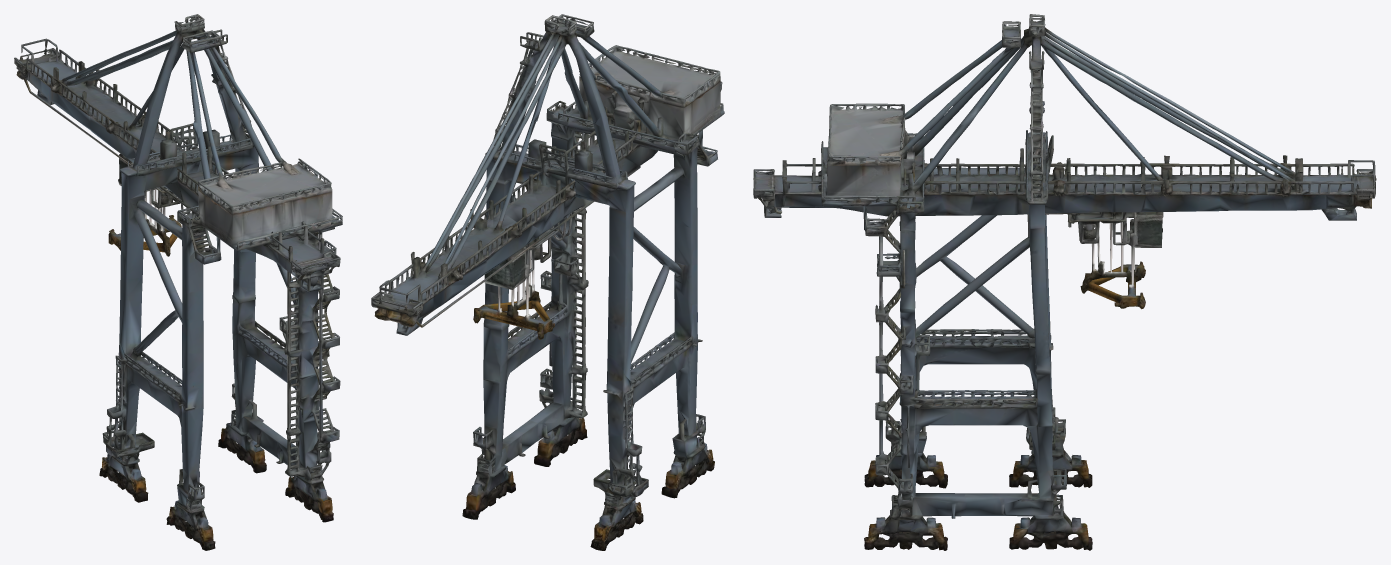
The model's file is sts_crane.glb.
The picture shows the model from 3 angles, left to right: view 1: azimuth 30°, elevation 25°; view 2: azimuth 150°, elevation 25°; view 3: azimuth 270°, elevation 25°; orthographic projection. The views are drawn at different scales.
Visible parts, largest first — view 1: tripo_node_b91b8bd2-6f9e-47f5-b3c7-c43930d2551e; view 2: tripo_node_b91b8bd2-6f9e-47f5-b3c7-c43930d2551e; view 3: tripo_node_b91b8bd2-6f9e-47f5-b3c7-c43930d2551e.
Part boxes in pixels (box(x1,y1,x2,y2)): tripo_node_b91b8bd2-6f9e-47f5-b3c7-c43930d2551e: box(14, 14, 342, 550); tripo_node_b91b8bd2-6f9e-47f5-b3c7-c43930d2551e: box(371, 14, 724, 550); tripo_node_b91b8bd2-6f9e-47f5-b3c7-c43930d2551e: box(753, 14, 1376, 550).
Bounding box in the file's own units: 0.3114 × 0.8828 × 0.9997.
Materials: 1 (1 with a texture image).
